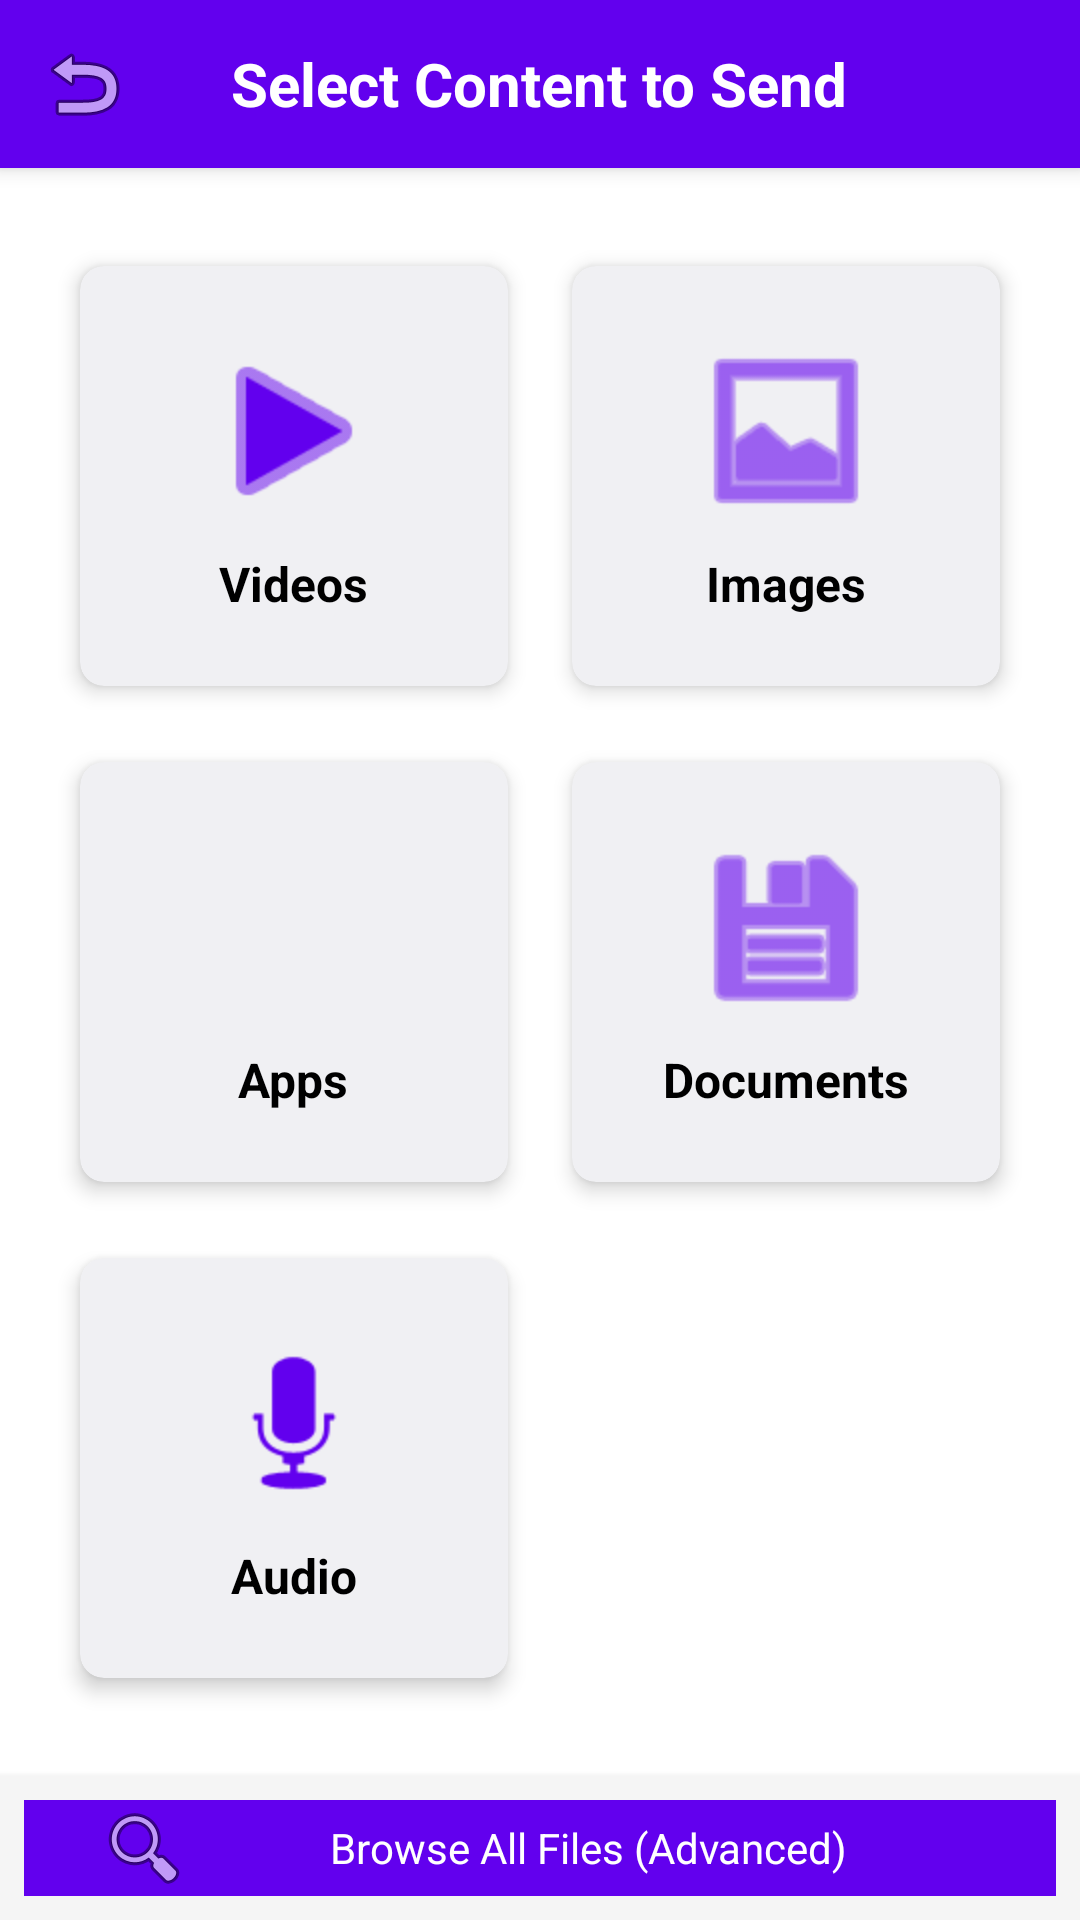

Where to tap for icons on this 1080 × 1920 app screen, as [x,y]:
Back: [85,84]
gallery: [786,431]
play: [294,431]
save: [786,928]
speak now: [294,1423]
